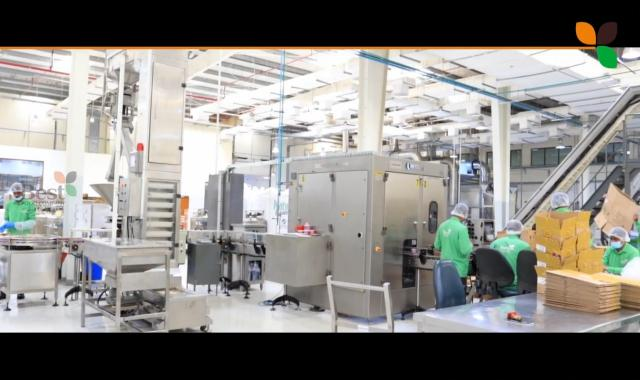hairnet: (551, 192, 569, 211), (452, 200, 468, 220), (607, 227, 628, 242), (507, 218, 522, 234), (10, 183, 24, 191)
